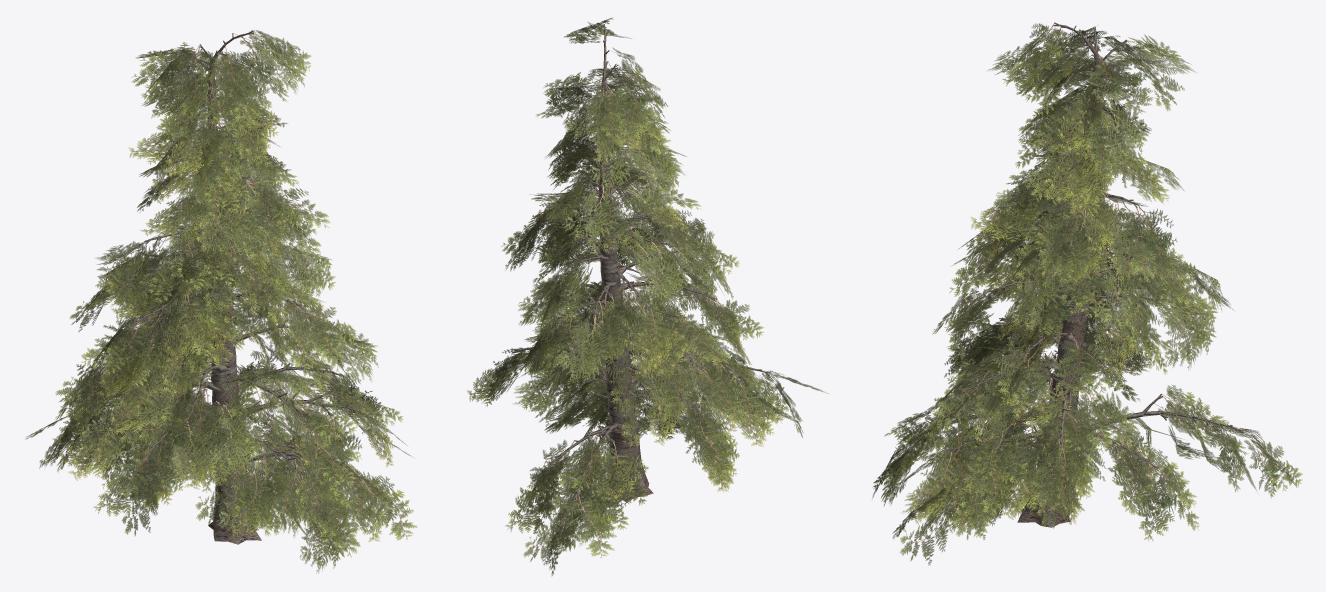
The model's file is tree.gltf.
3 views of the same model, side by side, from view 1: azimuth 30°, elevation 25°; view 2: azimuth 150°, elevation 25°; view 3: azimuth 270°, elevation 25° (orthographic). The views are drawn at different scales.
Visible parts, largest first — view 1: Object_7, Object_3, Object_4, Object_6, Object_9, Object_5, Object_8, Object_2; view 2: Object_3, Object_5, Object_7, Object_9, Object_6, Object_4, Object_2, Object_8; view 3: Object_6, Object_3, Object_4, Object_7, Object_5, Object_9, Object_8, Object_2.
Boxes of the visible parts, bbox=[...] form: Object_7: bbox=[39, 76, 400, 541]; Object_3: bbox=[75, 31, 393, 573]; Object_4: bbox=[63, 69, 403, 549]; Object_6: bbox=[53, 37, 369, 528]; Object_9: bbox=[26, 30, 417, 540]; Object_5: bbox=[46, 42, 376, 557]; Object_8: bbox=[55, 30, 413, 536]; Object_2: bbox=[87, 30, 361, 544]; Object_3: bbox=[513, 22, 761, 554]; Object_5: bbox=[501, 62, 788, 494]; Object_7: bbox=[467, 86, 799, 502]; Object_9: bbox=[479, 17, 783, 557]; Object_6: bbox=[505, 70, 827, 537]; Object_4: bbox=[495, 79, 763, 575]; Object_2: bbox=[512, 24, 770, 502]; Object_8: bbox=[492, 31, 803, 565]; Object_6: bbox=[924, 27, 1248, 541]; Object_3: bbox=[881, 26, 1256, 520]; Object_4: bbox=[872, 50, 1302, 537]; Object_7: bbox=[908, 57, 1182, 536]; Object_5: bbox=[872, 44, 1217, 523]; Object_9: bbox=[882, 23, 1268, 539]; Object_8: bbox=[890, 26, 1297, 565]; Object_2: bbox=[912, 22, 1244, 527].
Size of the model in its own units: 8.7 by 12.07 by 9.35.
8 materials, 8 textured.
